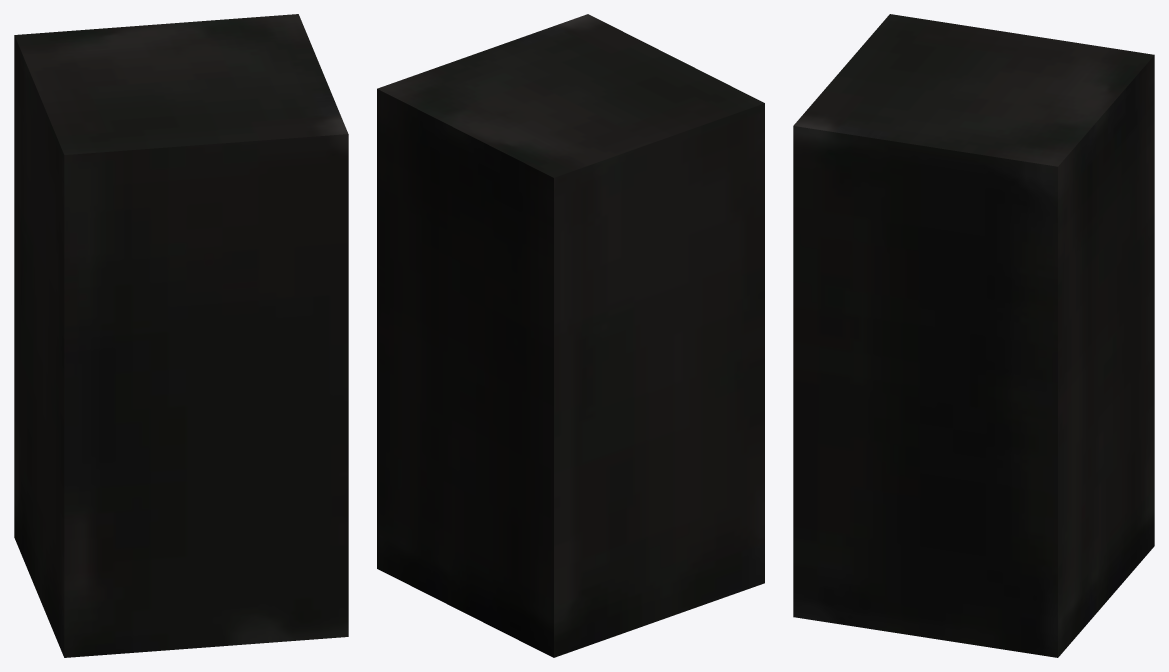
The model's file is center_frame__rack_tooth_1.glb.
3 views of the same model, side by side, from view 1: azimuth 30°, elevation 25°; view 2: azimuth 150°, elevation 25°; view 3: azimuth 270°, elevation 25° (orthographic). The views are drawn at different scales.
Parts seen in each view (by area): view 1: world; view 2: world; view 3: world.
Part boxes in pixels (x1,y1,x2,y2): world: [14, 14, 348, 657]; world: [377, 14, 764, 657]; world: [793, 14, 1154, 657].
Bounding box in the file's own units: 0.0333 × 0.05 × 0.0333.
Materials: 1 (1 with a texture image).
